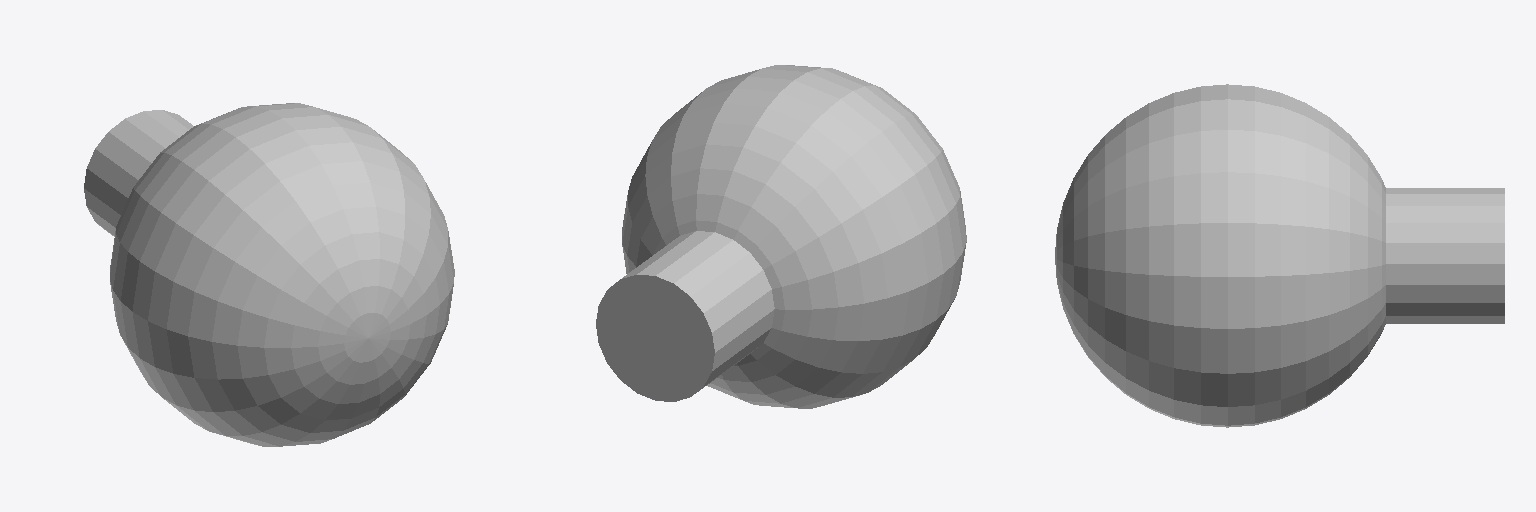
Rendered from ballJointRight.obj.
3 renders of one model, left to right at view 1: azimuth 30°, elevation 25°; view 2: azimuth 150°, elevation 25°; view 3: azimuth 270°, elevation 25°, orthographic.
Parts seen in each view (by area): view 1: polySurface2; view 2: polySurface2; view 3: polySurface2.
Boxes of the visible parts, x1=… form: polySurface2: x1=84, y1=103, x2=454, y2=446; polySurface2: x1=596, y1=65, x2=966, y2=408; polySurface2: x1=1055, y1=84, x2=1504, y2=427.
Size of the model in its own units: 1.66 by 1.66 by 2.16.